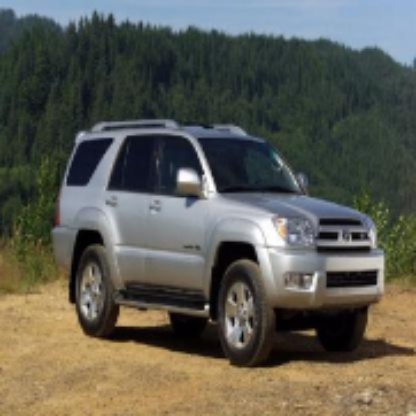Vehicle: (51, 120, 385, 370)
